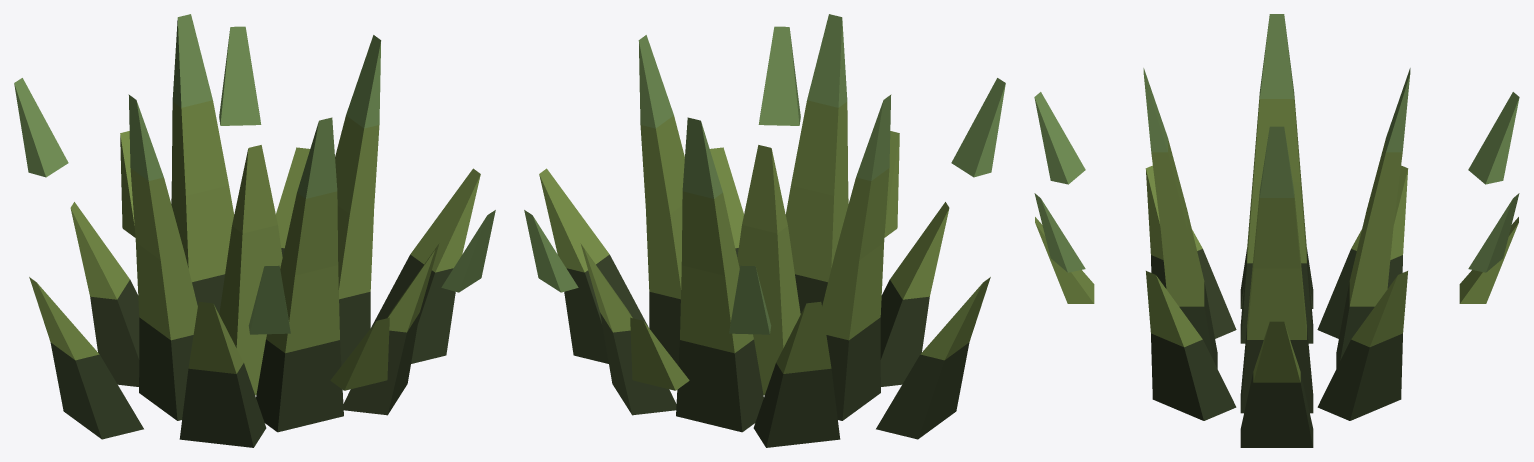
Rendered from grass_tuft_med_01.glb.
3 renders of one model, left to right at view 1: azimuth 30°, elevation 25°; view 2: azimuth 150°, elevation 25°; view 3: azimuth 270°, elevation 25°, orthographic. The views are drawn at different scales.
Parts seen in each view (by area): view 1: grass_tuft_med_01; view 2: grass_tuft_med_01; view 3: grass_tuft_med_01.
Boxes of the visible parts, x1,y1,x2,y2 form: grass_tuft_med_01: (14,14,495,447); grass_tuft_med_01: (524,14,1005,447); grass_tuft_med_01: (1034,14,1519,447).
Size of the model in its own units: 0.588 by 0.4 by 0.5895.
1 material, 1 textured.
